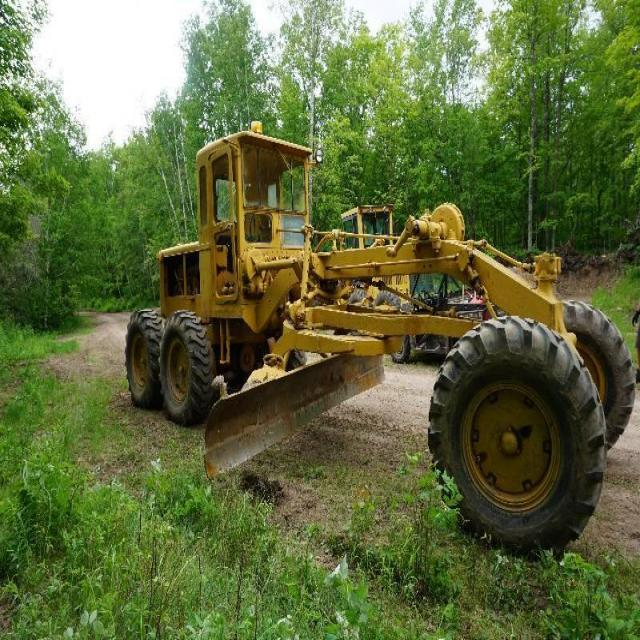Grader: (108, 123, 639, 572)
